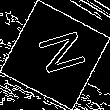N_W: (25, 28, 85, 82)
